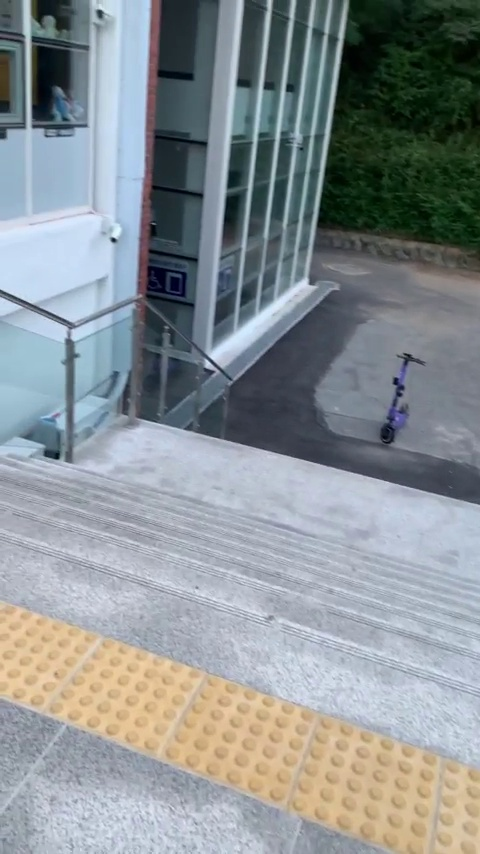beam: (375, 347, 430, 452)
